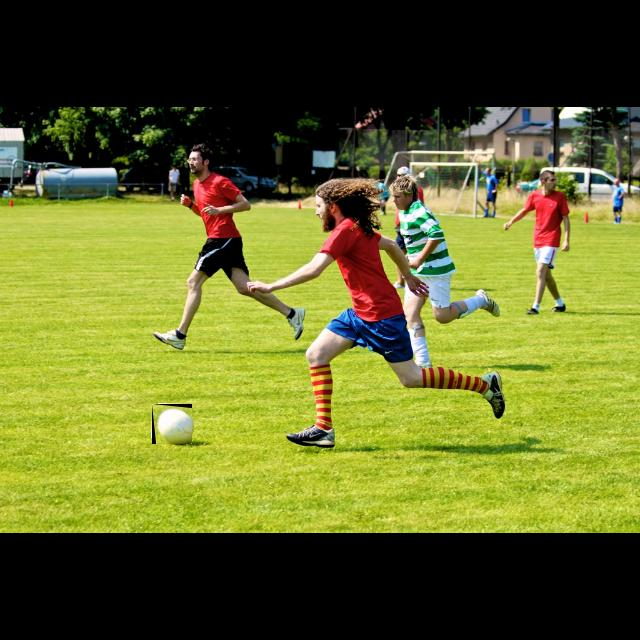Football: (152, 404, 192, 444)
